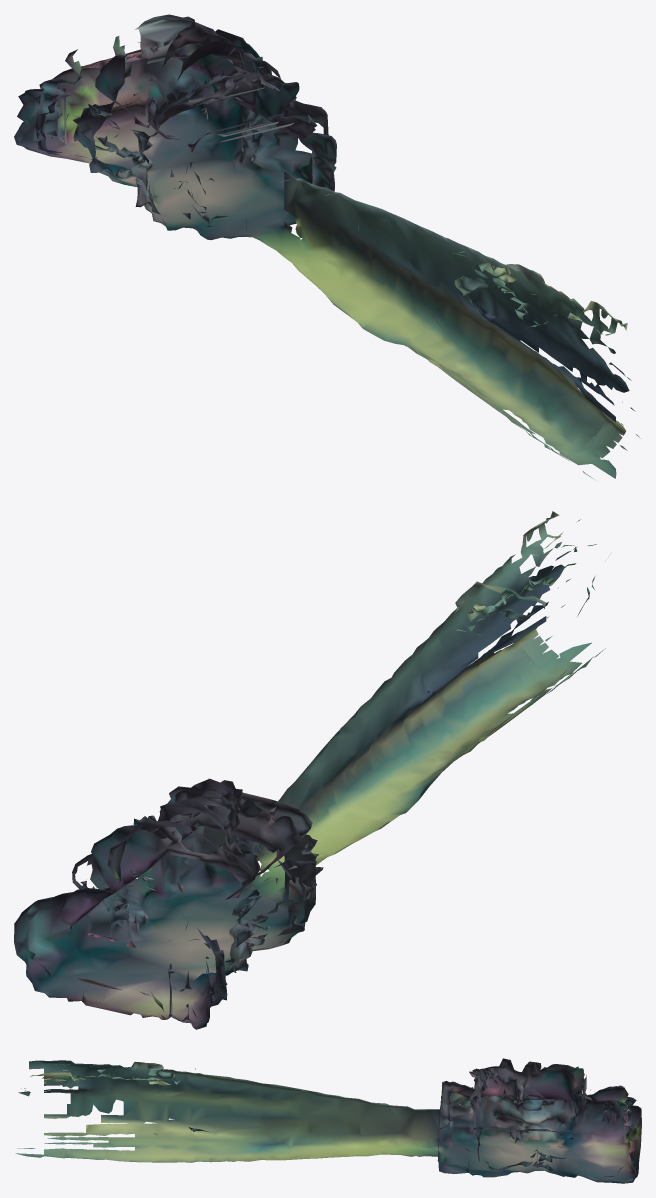
File: Sunlit Greenhouse Workshop Haven_collider.glb
3 views of the same model, one above another, from view 1: azimuth 30°, elevation 25°; view 2: azimuth 150°, elevation 25°; view 3: azimuth 270°, elevation 25° (orthographic). The views are drawn at different scales.
Parts seen in each view (by area): view 1: world; view 2: world; view 3: world.
Boxes of the visible parts, bbox=[...] form: world: bbox=[14, 14, 639, 479]; world: bbox=[14, 511, 605, 1029]; world: bbox=[15, 1058, 641, 1183].
Size of the model in its own units: 5.16 by 4.05 by 22.92.
